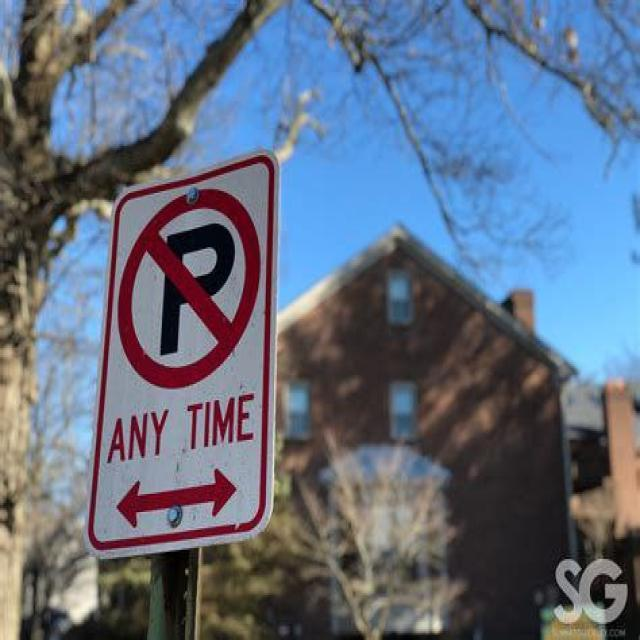no parking: (117, 188, 262, 390)
